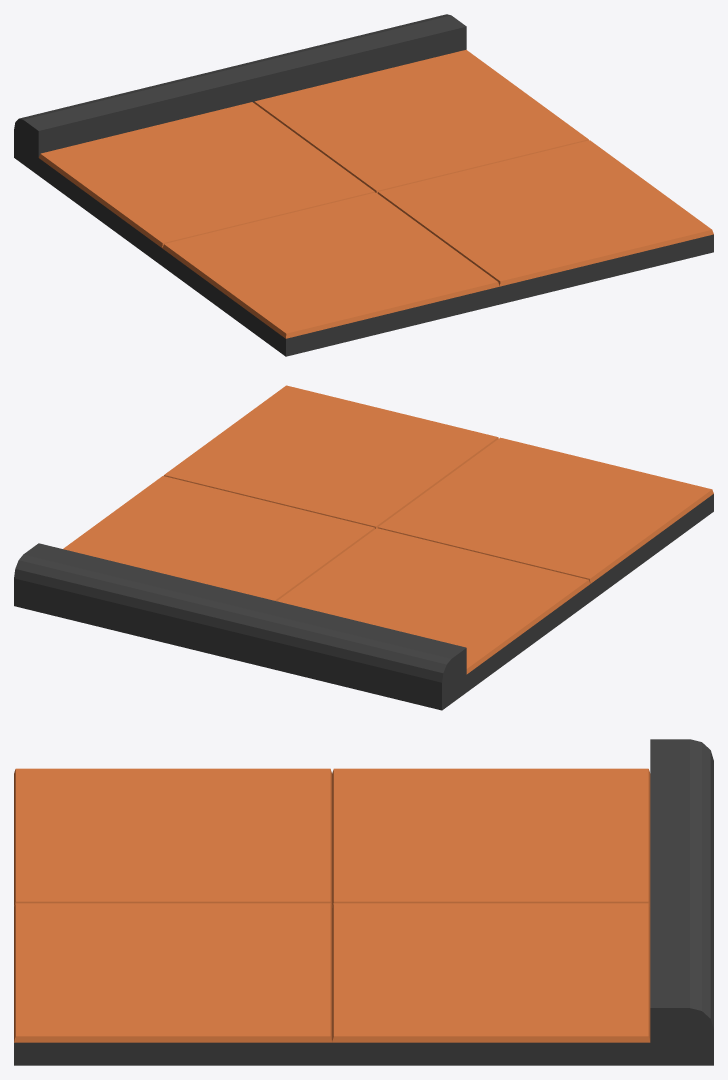
The model's file is Playground Ground Straight.fbx.
3 renders of one model, top to bottom at view 1: azimuth 30°, elevation 25°; view 2: azimuth 150°, elevation 25°; view 3: azimuth 270°, elevation 25°, orthographic. The views are drawn at different scales.
Visible parts, largest first — view 1: Playground Ground Straight; view 2: Playground Ground Straight; view 3: Playground Ground Straight.
Part boxes in pixels (box(x1,y1,x2,y2)): Playground Ground Straight: box(14, 14, 713, 356); Playground Ground Straight: box(14, 385, 713, 710); Playground Ground Straight: box(14, 739, 713, 1065).
Bounding box in the file's own units: 400 × 40 × 440.
